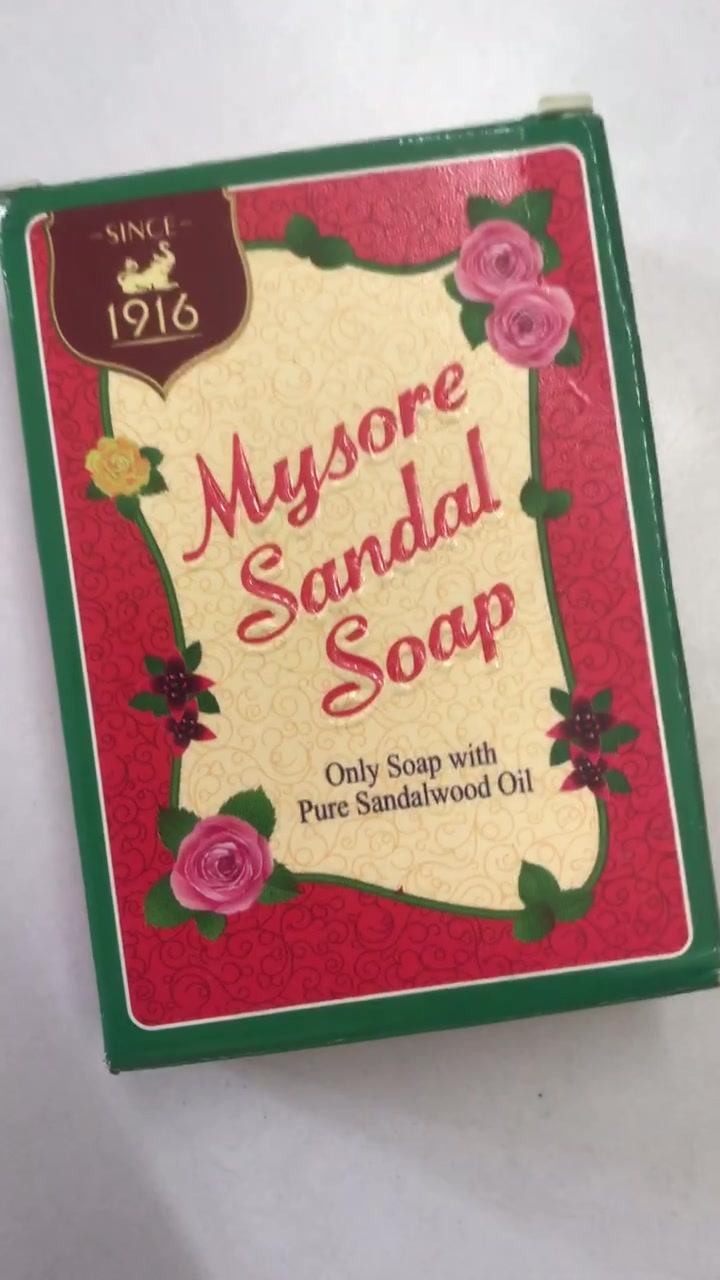mysore sandal soap: (19, 125, 716, 1066)
